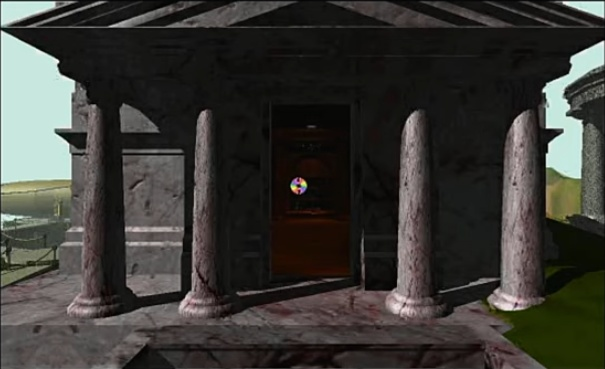Waiting: (286, 174, 310, 196)
